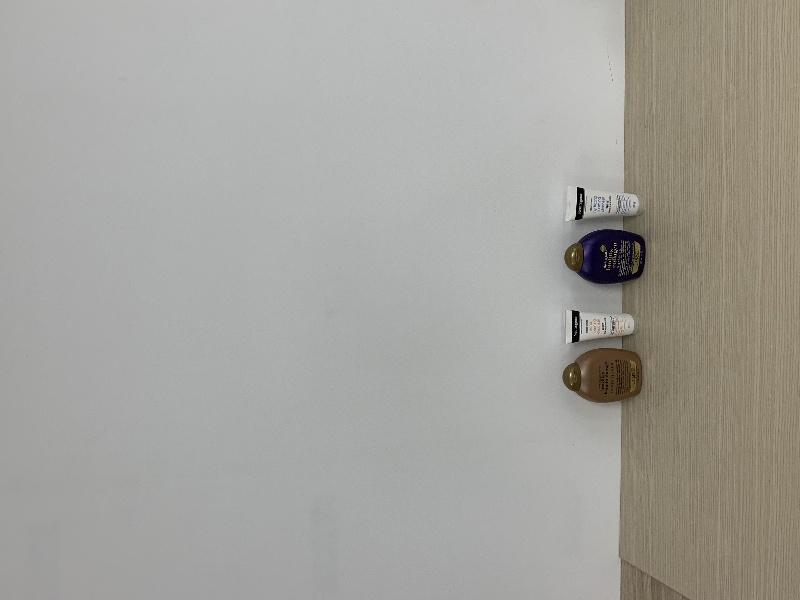AcneFoamingCleanser: (564, 310, 634, 344)
BiotinCollagen_Shampoo: (564, 229, 645, 284)
BrazilianKerationTherapy_Conditioner: (562, 348, 642, 403)
HydratingFoamingCleanser: (566, 186, 646, 222)
